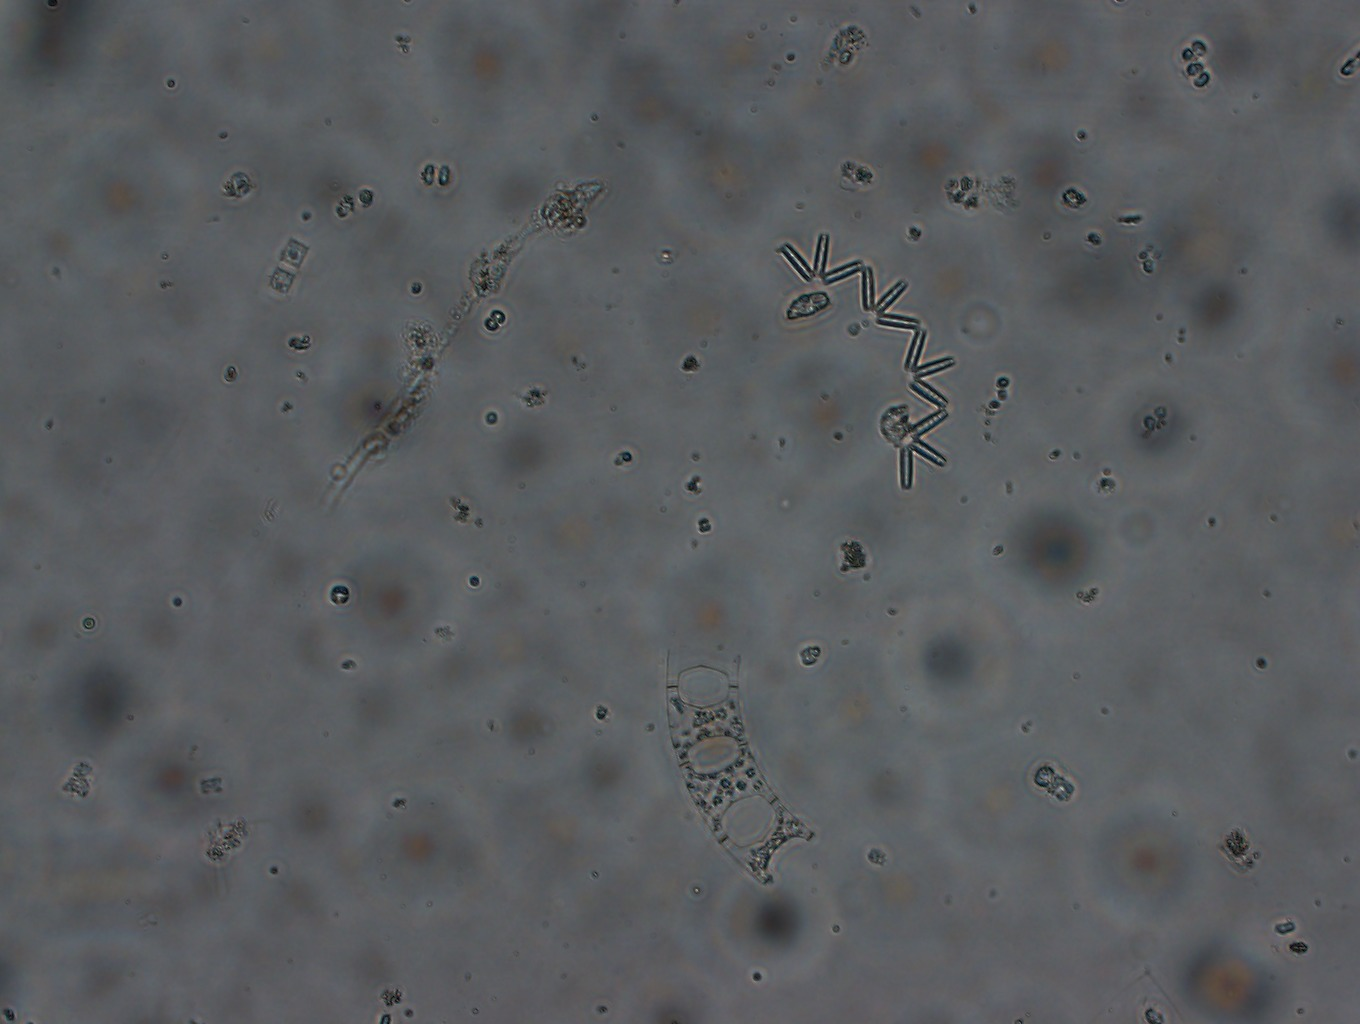eucampia: (655, 639, 816, 888)
thalassionema nitzschioides: (765, 231, 959, 499)
